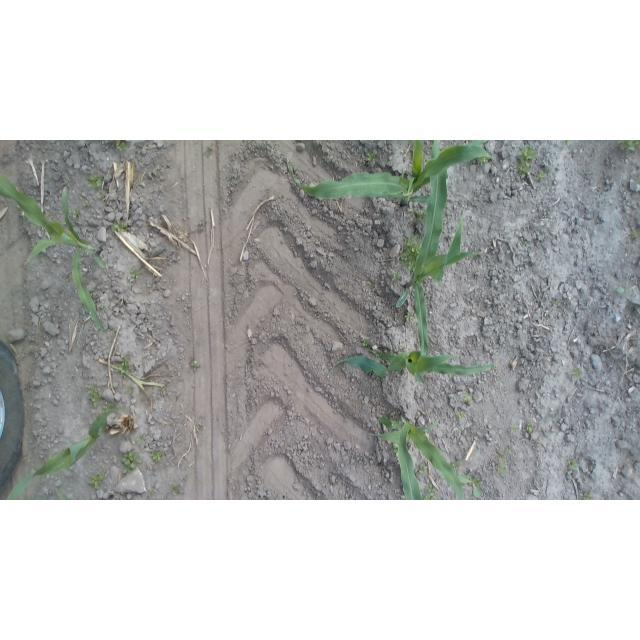Maize: (395, 140, 485, 366), (1, 170, 112, 335), (286, 141, 493, 206), (6, 402, 132, 499), (369, 408, 483, 500), (323, 344, 499, 384)
Weeds: (400, 234, 424, 271), (515, 143, 537, 179), (119, 451, 142, 478), (463, 473, 485, 500), (87, 173, 108, 199), (493, 451, 512, 479), (85, 384, 105, 410), (118, 358, 140, 377), (110, 218, 131, 235), (87, 474, 107, 491), (618, 140, 639, 156), (111, 141, 130, 157), (615, 280, 633, 296), (422, 485, 441, 500), (409, 208, 428, 221), (151, 449, 168, 463), (128, 269, 143, 284), (415, 460, 429, 476), (202, 146, 217, 160), (567, 458, 581, 473), (572, 367, 587, 381), (457, 410, 470, 425), (404, 309, 416, 325), (71, 208, 85, 221), (170, 484, 184, 497), (134, 434, 150, 445), (578, 489, 595, 499), (390, 271, 403, 284), (366, 150, 380, 162), (449, 458, 461, 472), (629, 227, 640, 242), (524, 422, 536, 435), (506, 445, 519, 457), (189, 359, 201, 372), (109, 331, 123, 342), (462, 395, 476, 406), (475, 156, 489, 167), (537, 172, 549, 183), (509, 423, 520, 435), (125, 385, 135, 398), (533, 439, 544, 450), (81, 198, 92, 209), (360, 337, 372, 347), (550, 300, 562, 309), (97, 302, 108, 310), (564, 140, 577, 146), (389, 349, 398, 356)
